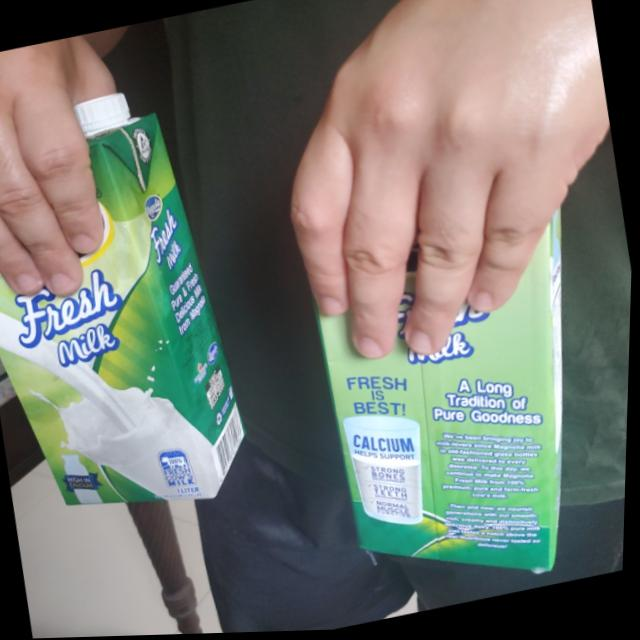milk: (288, 141, 623, 627), (0, 76, 268, 536)
